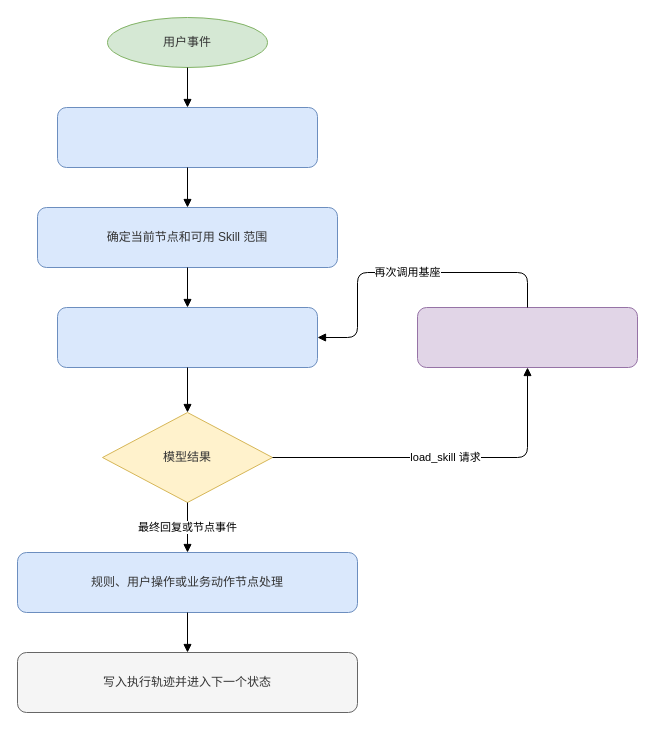
Image size: 655x730. Some labels were removed from this diagram. The box of each missing label's shape, as (x1, y1, x2, y2) in pixels:
Agent 基座执行模型调用: (56, 306, 318, 368)
创建或恢复 WorkflowExecution: (56, 106, 318, 168)
校验并加载 Skill: (416, 306, 638, 368)
